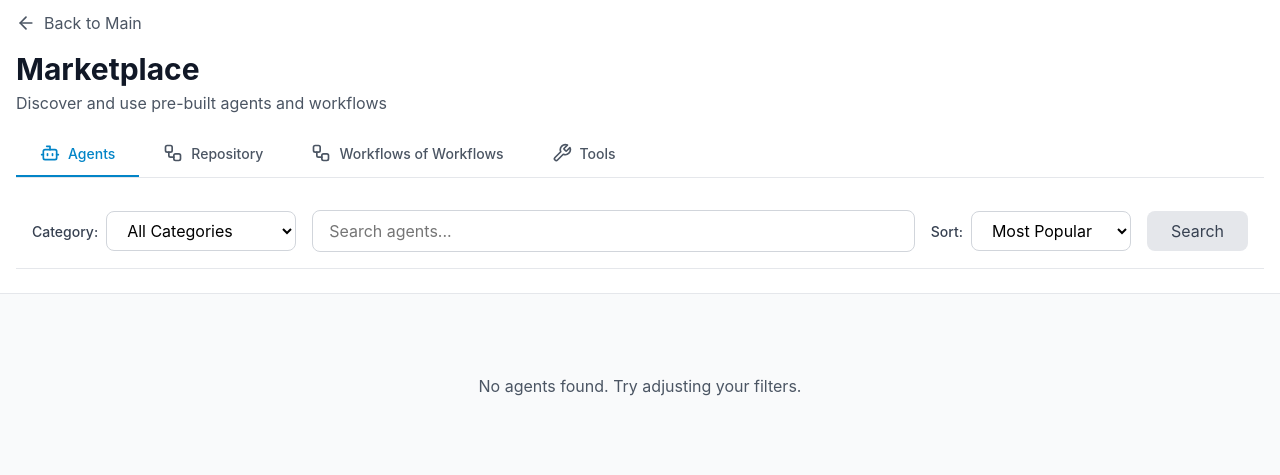
Scenario: MarketplacePage › UI interactions › should display empty state for workflows
Click the button "Repository": (213, 154) [139, 131, 287, 177]
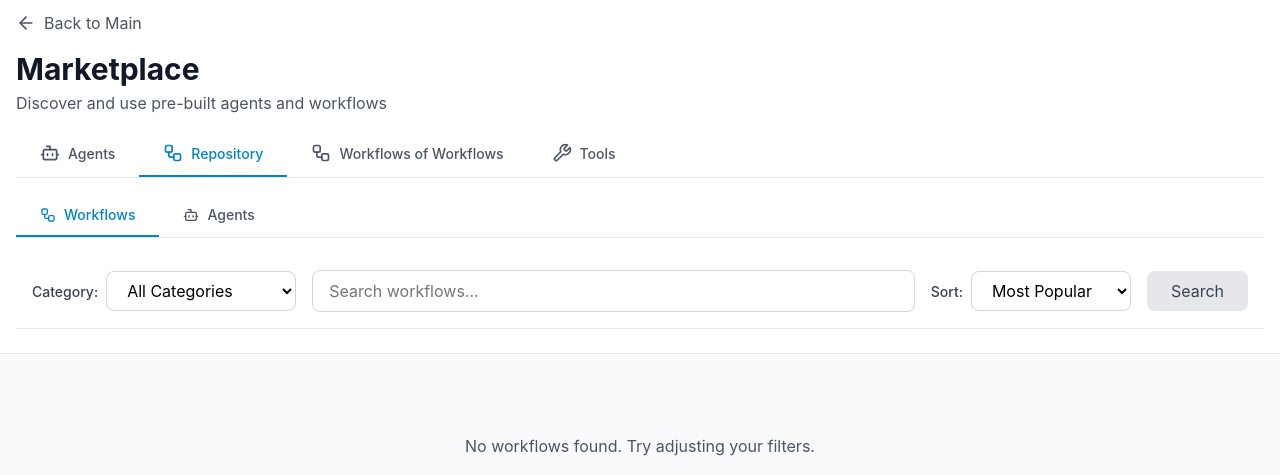
Expected: the text "No workflows found. Try adjusting your filters." is shown, [465, 434, 815, 458]
